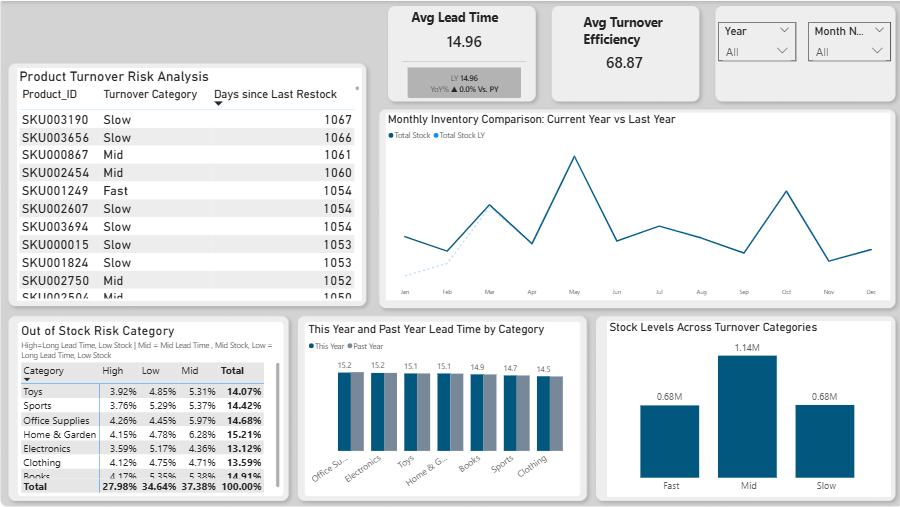

What the dashboard file says about the page in this screenshot:
{"tool":"powerbi","page":{"name":"Inventory Performance & Risk Analysis","canvas":[1920,1080],"ordinal":1},"visuals":[{"type":"cardVisual","title":"Avg Lead Time","fields":{"Data":["Metrix_Table.Avg Lead_Time_Days"]},"box":[837.6,21.3,299.8,214.7],"z":0},{"type":"cardVisual","title":"Avg  Turnover Effiency","fields":{"Data":["Metrix_Table.Turnover_Index Effiency"]},"box":[1213.9,76.5,227.5,102],"z":0},{"type":"tableEx","title":"Product Turnover Risk Analysis","fields":{"Values":["Inventory.Product_ID","Inventory.Turnover Category","Avg(Inventory.Days_since_last_restock)"]},"box":[36.1,142.4,733.5,495.4],"z":0},{"type":"textbox","box":[869.5,10.6,219,65.9],"z":1000},{"type":"textbox","box":[1235.2,21.3,185,102],"z":1000},{"type":"lineChart","title":"Monthly Inventory Comparison: Current Year vs Last Year","fields":{"Category":["Calendar.Month Name"],"Y":["Metrix_Table.Total Stock","Metrix_Table.Total Stock LY"]},"box":[818.5,236,1075.7,401.8],"z":1000},{"type":"slicer","fields":{"Values":["Calendar.Year"]},"box":[1526.5,44.6,165.8,82.9],"z":2000},{"type":"slicer","fields":{"Values":["Calendar.Month Name"]},"box":[1717.8,44.6,176.5,82.9],"z":3000},{"type":"clusteredColumnChart","title":"This Year and Past Year Lead Time by Category","fields":{"Category":["Inventory.Category"],"Y":["Metrix_Table.Avg Lead_Time_Days","Metrix_Table.Avg Lead_Time LY"]},"box":[646.3,680.3,588.9,374.2],"z":4000},{"type":"clusteredColumnChart","title":"Stock Levels Across Turnover Categories","fields":{"Category":["Inventory.Turnover Category"],"Y":["Metrix_Table.Total Stock"]},"box":[1290.5,680.3,603.8,374.2],"z":7000},{"type":"pivotTable","title":"Out of Stock Risk Category","fields":{"Rows":["Inventory.Category"],"Columns":["Inventory.OOS Risk Category"],"Values":["Metrix_Table.Total Stock"]},"box":[36.1,680.3,567.6,374.2],"z":9000}]}

Visuals, with their boxes in screenshot pixels (x1, y1, x2, y2), scaled from the page's 1920x1080 canvas onto the 900x507 screenshot:
"Avg Lead Time" cardVisual: 393,10,533,111
"Avg  Turnover Effiency" cardVisual: 569,36,676,84
"Product Turnover Risk Analysis" tableEx: 17,67,361,299
textbox: 408,5,510,36
textbox: 579,10,666,58
"Monthly Inventory Comparison: Current Year vs Last Year" lineChart: 384,111,888,299
slicer - Calendar.Year: 716,21,793,60
slicer - Calendar.Month Name: 805,21,888,60
"This Year and Past Year Lead Time by Category" clusteredColumnChart: 303,319,579,495
"Stock Levels Across Turnover Categories" clusteredColumnChart: 605,319,888,495
"Out of Stock Risk Category" pivotTable: 17,319,283,495
